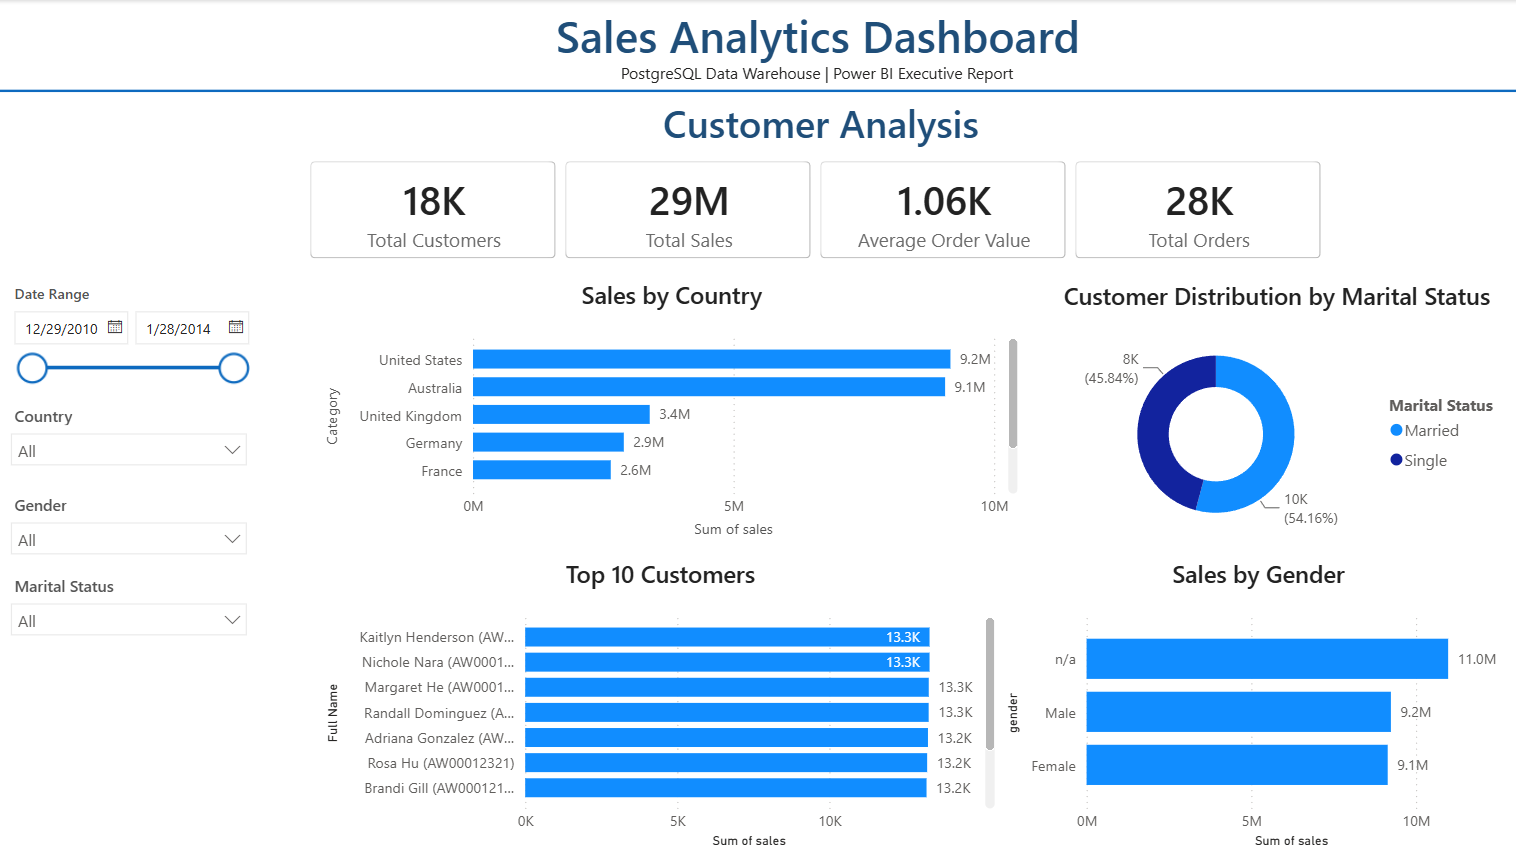

The page's visual inventory and layout, read from the dashboard file:
{"tool":"powerbi","page":{"name":"Customer Analysis ","canvas":[1280,720],"ordinal":1},"visuals":[{"type":"textbox","box":[9.9,0,180,32.2],"z":0},{"type":"cardVisual","fields":{"Data":["gold dim_customers.Total Customers","gold fact_sales.Total Sales","gold fact_sales.Average Order Value","gold fact_sales.Total Orders"]},"box":[245.1,118.7,888,116.7],"z":1000},{"type":"clusteredBarChart","title":"Sales by Country","fields":{"Category":["gold dim_customers.country"],"Y":["Sum(gold fact_sales.sales)"]},"box":[270.4,234.4,593.3,223.7],"z":2000},{"type":"clusteredBarChart","title":"Top 10 Customers","fields":{"Category":["gold dim_customers.Full Name"],"Y":["Sum(gold fact_sales.sales)"]},"box":[270.4,469.8,573.9,250],"z":3000},{"type":"textbox","box":[460.3,0,460.3,64.5],"z":4000},{"type":"textbox","box":[550.7,77,293.7,64.5],"z":5000},{"type":"shape","box":[0,64.5,1279.7,25.1],"z":6000},{"type":"textbox","box":[514.9,47.5,349.3,29.6],"z":7000},{"type":"donutChart","title":"Customer Distribution by Marital Status","fields":{"Category":["gold dim_customers.marital_status"],"Y":["gold dim_customers.Total Customers"]},"box":[875.4,235.4,404.6,223.7],"z":8000},{"type":"clusteredBarChart","title":"Sales by Gender","fields":{"Category":["gold dim_customers.gender"],"Y":["Sum(gold fact_sales.sales)"]},"box":[844.3,469.8,435.7,250],"z":9000},{"type":"slicer","title":"Data","fields":{"Values":["gold fact_sales.order_date"]},"box":[0,234.6,219.4,102.1],"z":10000},{"type":"slicer","fields":{"Values":["gold dim_customers.country"]},"box":[0,336.7,219.4,69],"z":11000},{"type":"slicer","fields":{"Values":["gold dim_customers.gender"]},"box":[0,411,219.4,69],"z":12000},{"type":"slicer","fields":{"Values":["gold dim_customers.marital_status"]},"box":[0,480,219.4,69],"z":13000}]}

Visuals, with their boxes in screenshot pixels (x1, y1, x2, y2), scaled from the page's 1280x720 canvas onto the 1516x852 screenshot:
textbox: 12,0,225,38
cardVisual - gold dim_customers.Total Customers x gold fact_sales.Total Sales: 290,140,1342,279
"Sales by Country" clusteredBarChart: 320,277,1023,542
"Top 10 Customers" clusteredBarChart: 320,556,1000,851
textbox: 545,0,1090,76
textbox: 652,91,1000,167
shape: 0,76,1515,106
textbox: 610,56,1024,91
"Customer Distribution by Marital Status" donutChart: 1037,279,1515,543
"Sales by Gender" clusteredBarChart: 1000,556,1515,851
"Data" slicer: 0,278,260,398
slicer - gold dim_customers.country: 0,398,260,480
slicer - gold dim_customers.gender: 0,486,260,568
slicer - gold dim_customers.marital_status: 0,568,260,650
